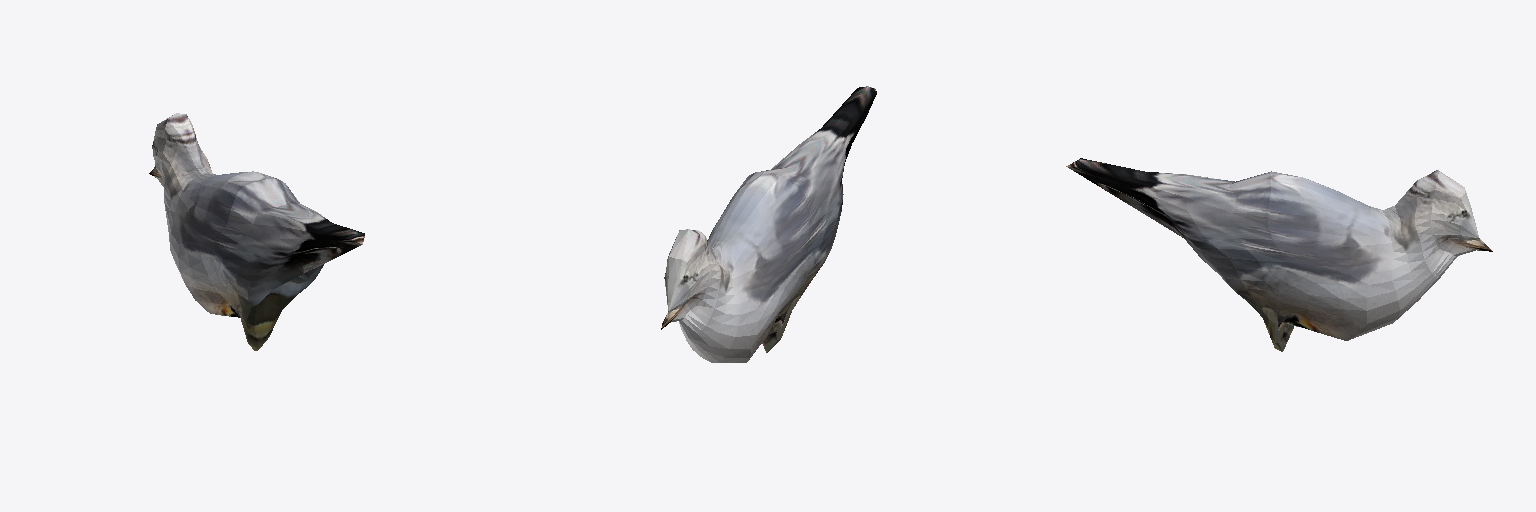
3 views of the same model, side by side, from view 1: azimuth 30°, elevation 25°; view 2: azimuth 150°, elevation 25°; view 3: azimuth 270°, elevation 25° (orthographic).
Size of the model in its own units: 0.5573 by 1.18 by 2.38.
1 materials, 1 textured.